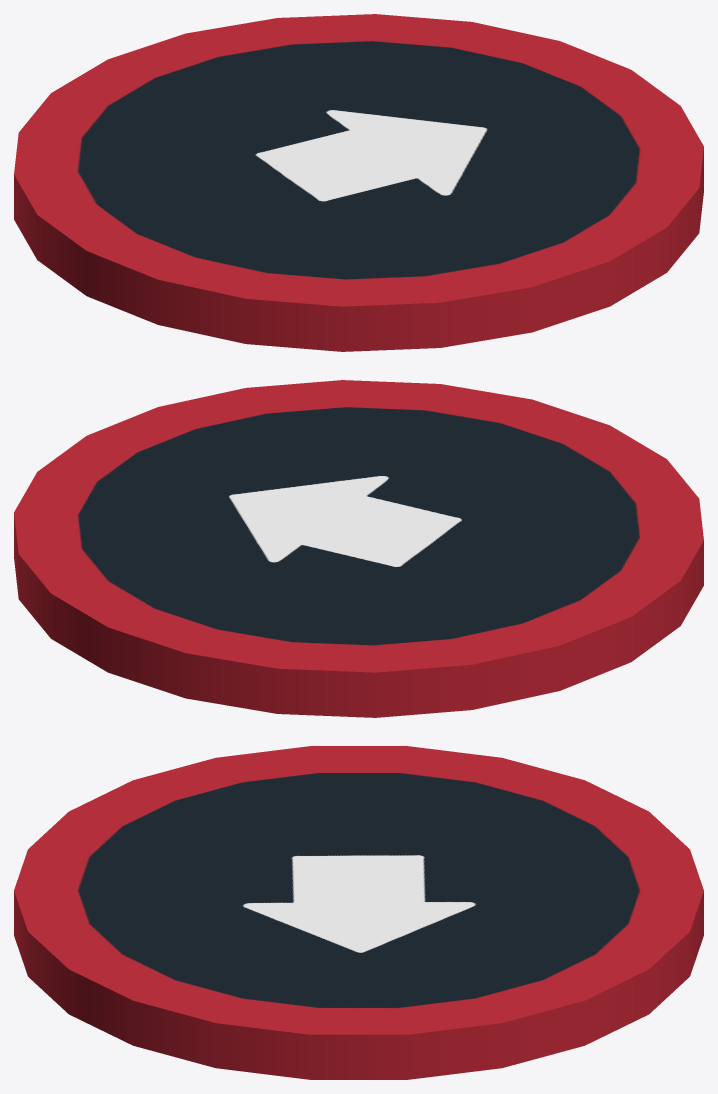
Rendered from Final_Jump_point.fbx.
3 views of the same model, one above another, from view 1: azimuth 30°, elevation 25°; view 2: azimuth 150°, elevation 25°; view 3: azimuth 270°, elevation 25° (orthographic).
Parts seen in each view (by area): view 1: last jump point; view 2: last jump point; view 3: last jump point.
Part boxes in pixels (x1,y1,x2,y2): last jump point: [14, 14, 703, 351]; last jump point: [14, 380, 703, 717]; last jump point: [14, 746, 703, 1079].
Bounding box in the file's own units: 1.56 × 0.1136 × 1.58.
Materials: 1 (1 with a texture image).
